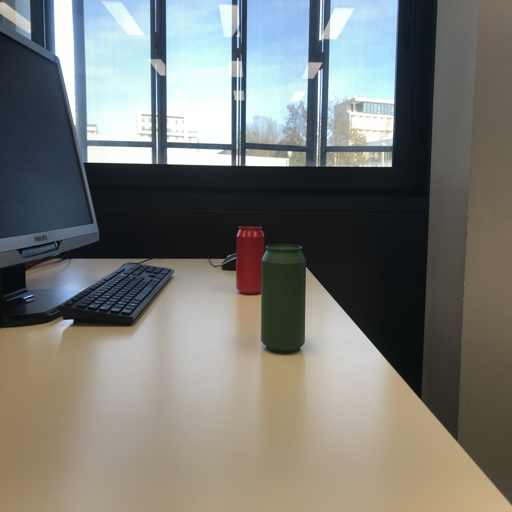Green_Can: (258, 242, 306, 354)
Red_Can: (234, 224, 265, 295)
